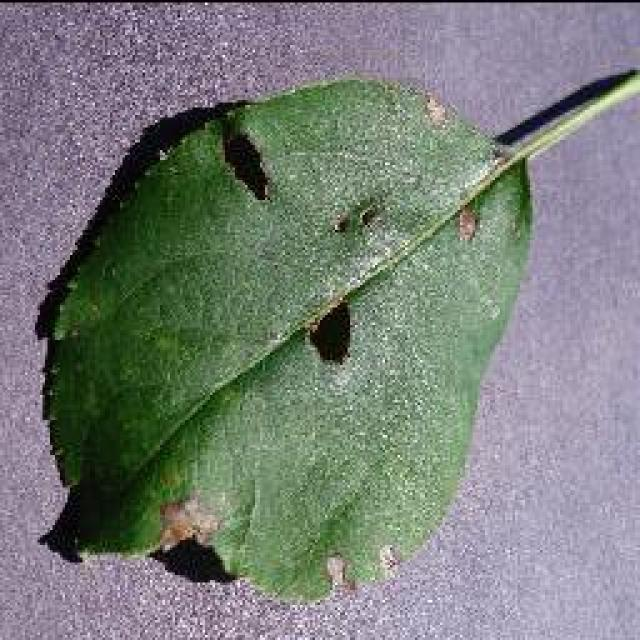Black_rot: (35, 73, 535, 605)
